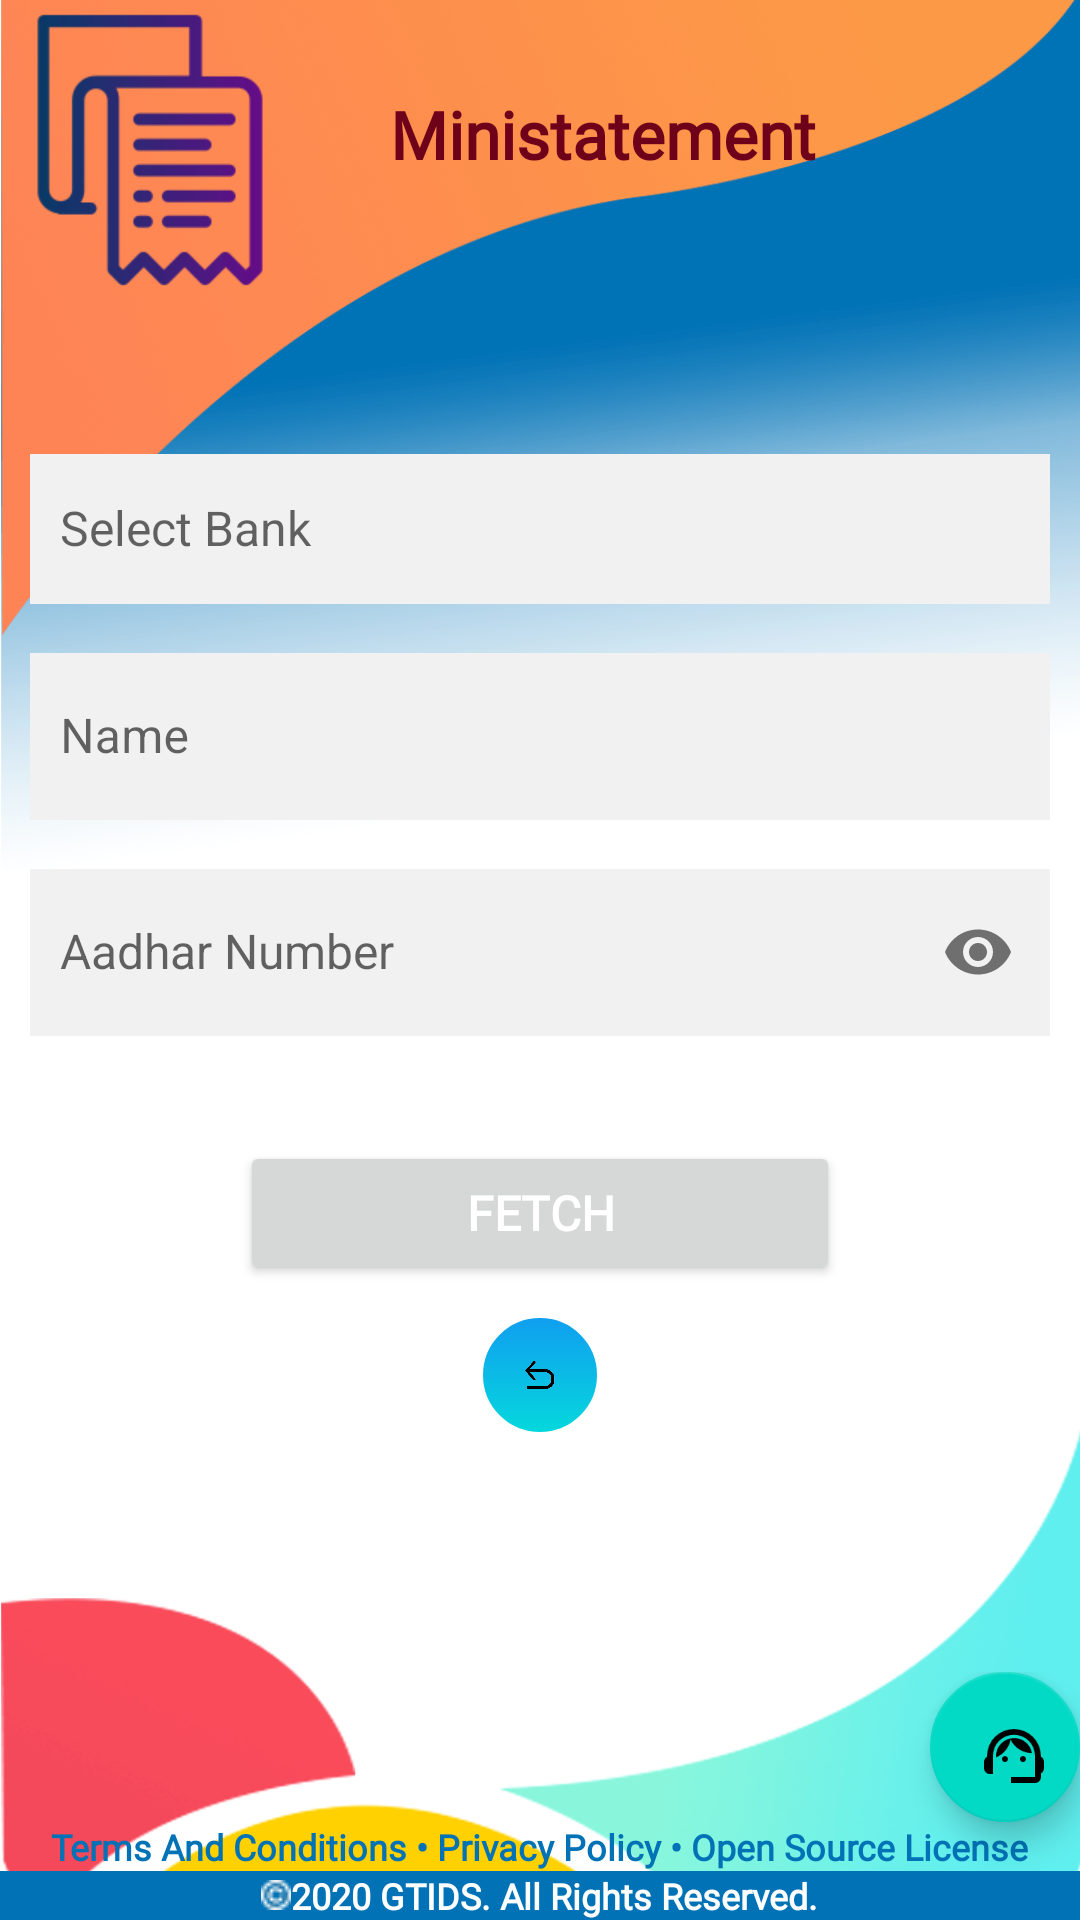

Where icons sit on this 1080 × 1920 app screen, as (x1, y1, x2, y2):
backarrow: (483, 1318, 597, 1432)
copyright: (261, 1880, 291, 1910)
support: (930, 1672, 1080, 1822)
